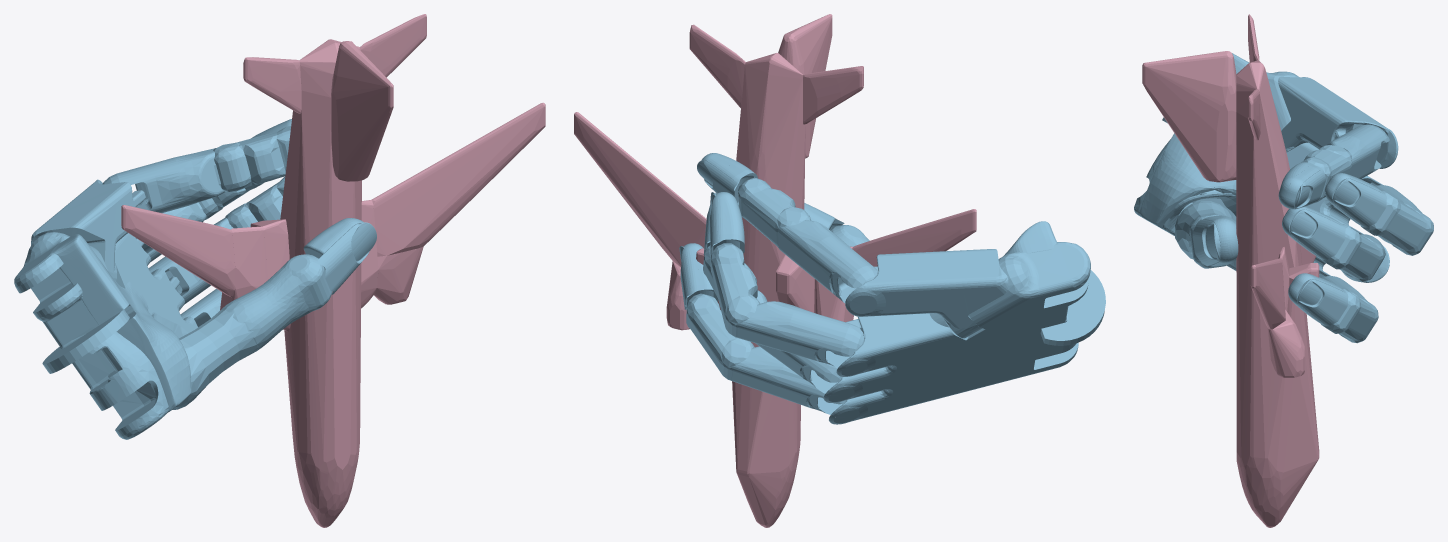
The picture shows the model from 3 angles, left to right: view 1: azimuth 30°, elevation 25°; view 2: azimuth 150°, elevation 25°; view 3: azimuth 270°, elevation 25°; orthographic projection. The views are drawn at different scales.
Visible parts, largest first — view 1: world, hand_isaac_q; view 2: hand_isaac_q, world; view 3: world, hand_isaac_q.
Part boxes in pixels (box(x1,y1,x2,y2)): world: box(121, 14, 545, 527); hand_isaac_q: box(14, 119, 376, 439); hand_isaac_q: box(679, 153, 1105, 424); world: box(574, 14, 976, 527); world: box(1142, 14, 1319, 527); hand_isaac_q: box(1134, 53, 1433, 343).
Bounding box in the file's own units: 0.2451 × 0.2206 × 0.126.
